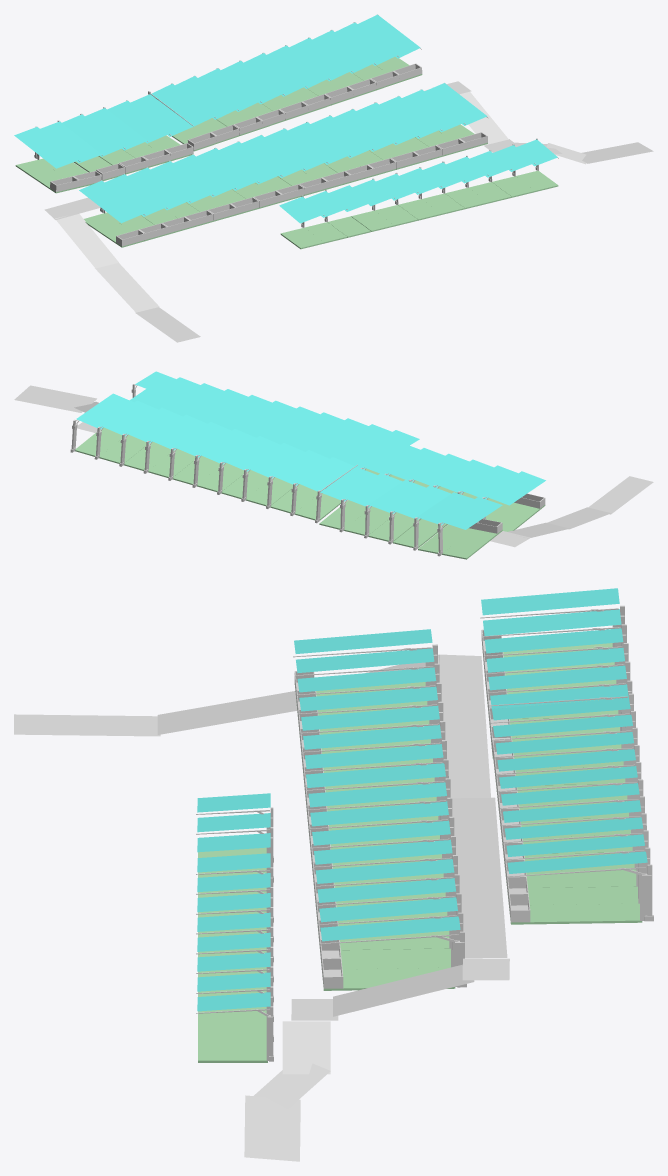
Rendered from EcoGowanus Building No Boxes.fbx.
The picture shows the model from 3 angles, top to bottom: view 1: azimuth 30°, elevation 25°; view 2: azimuth 150°, elevation 25°; view 3: azimuth 270°, elevation 25°; orthographic projection. The views are drawn at different scales.
Parts seen in each view (by area): view 1: Plane.221, Plane.222, Plane.115, Plane.165, Plane.195, Plane.155, Plane.125, Plane.145, Plane.121, Plane.161, Plane.135, Plane.131 (+50 smaller); view 2: Plane.219, Plane.223, Plane.115, Plane.165, Plane.195, Plane.155, Plane.161, Plane.121, Plane.145, Plane.135, Plane.125, Plane.131 (+54 smaller); view 3: Plane.215, Plane.220, Plane.219, Plane.223, Plane.222, Plane.213, Plane.217, Plane.195, Plane.129, Plane.191, Plane.050, Plane.185 (+49 smaller).
Boxes of the visible parts, box(x1,y1,x2,y2) form: Plane.221: box(55, 214, 118, 268); Plane.222: box(95, 263, 159, 312); Plane.115: box(79, 180, 143, 223); Plane.165: box(151, 83, 214, 126); Plane.195: box(14, 127, 78, 168); Plane.155: box(198, 68, 260, 111); Plane.125: box(335, 22, 397, 65); Plane.145: box(244, 53, 306, 96); Plane.121: box(358, 14, 420, 58); Plane.161: box(175, 76, 237, 119); Plane.135: box(289, 38, 351, 81); Plane.131: box(312, 30, 374, 73); Plane.219: box(14, 385, 96, 412); Plane.223: box(588, 476, 653, 514); Plane.115: box(485, 471, 545, 505); Plane.165: box(296, 457, 355, 491); Plane.195: box(441, 497, 502, 529); Plane.155: box(247, 443, 304, 478); Plane.161: box(272, 450, 329, 485); Plane.121: box(76, 393, 133, 429); Plane.145: box(198, 429, 255, 464); Plane.135: box(150, 415, 206, 450); Plane.125: box(101, 400, 158, 435); Plane.131: box(125, 408, 182, 443); Plane.215: box(452, 797, 507, 958); Plane.220: box(438, 654, 490, 798); Plane.219: box(244, 1095, 300, 1161); Plane.223: box(14, 714, 160, 736); Plane.222: box(157, 691, 297, 734); Plane.213: box(333, 964, 474, 1016); Plane.217: box(282, 1021, 330, 1074); Plane.195: box(481, 588, 619, 615); Plane.129: box(509, 903, 642, 924); Plane.191: box(483, 609, 621, 636); Plane.050: box(320, 948, 450, 969); Plane.185: box(484, 628, 623, 653).
Size of the model in its own units: 4833 by 870 by 2831.
